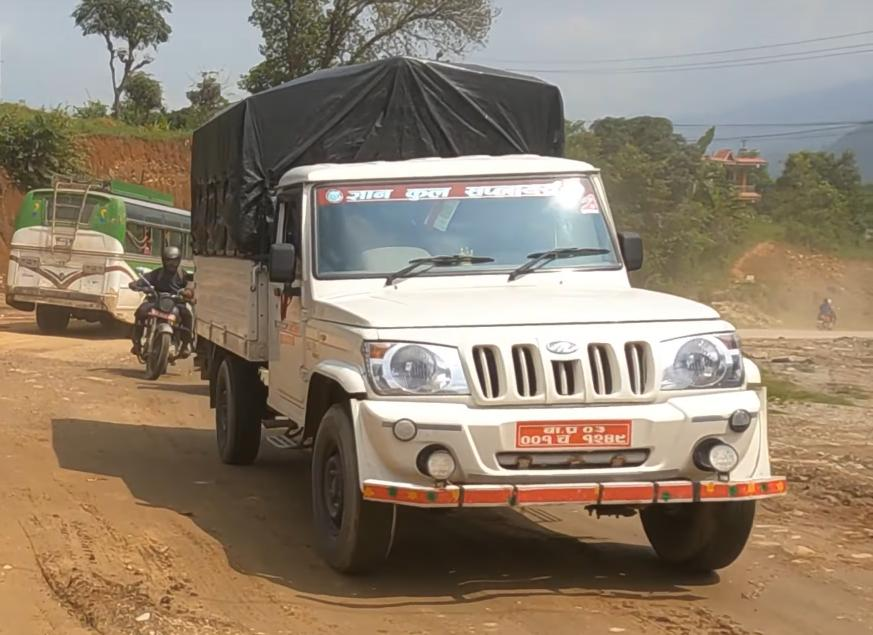bike: (129, 253, 201, 392)
bus: (0, 167, 200, 345)
transport_vehicle: (167, 34, 763, 579)
